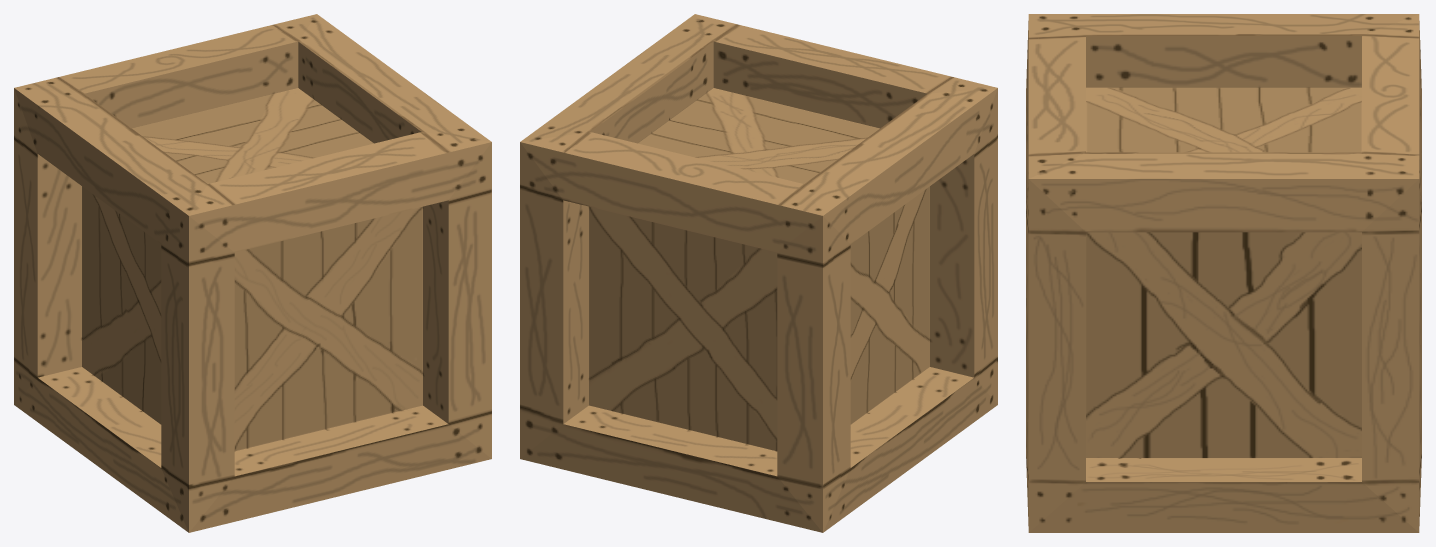
Rendered from SimpleCrate.fbx.
The picture shows the model from 3 angles, left to right: view 1: azimuth 30°, elevation 25°; view 2: azimuth 150°, elevation 25°; view 3: azimuth 270°, elevation 25°; orthographic projection. The views are drawn at different scales.
Parts seen in each view (by area): view 1: Cube; view 2: Cube; view 3: Cube.
Boxes of the visible parts, left/top/right/bottom form: Cube: left=14, top=14, right=491, bottom=532; Cube: left=520, top=14, right=997, bottom=532; Cube: left=1026, top=14, right=1421, bottom=532.
Bounding box in the file's own units: 200 × 200 × 200.
